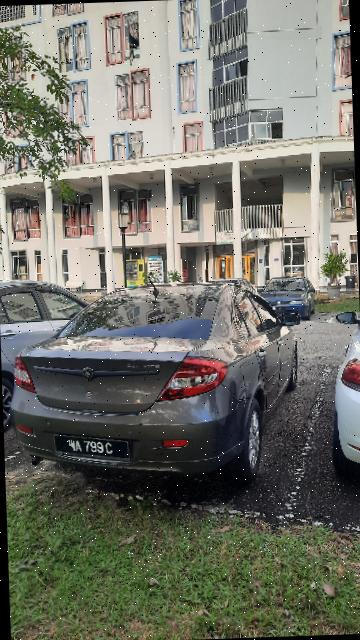License_Plate: (56, 433, 132, 463), (272, 305, 288, 313)
car: (5, 283, 271, 480), (259, 277, 317, 324), (216, 279, 259, 294)
